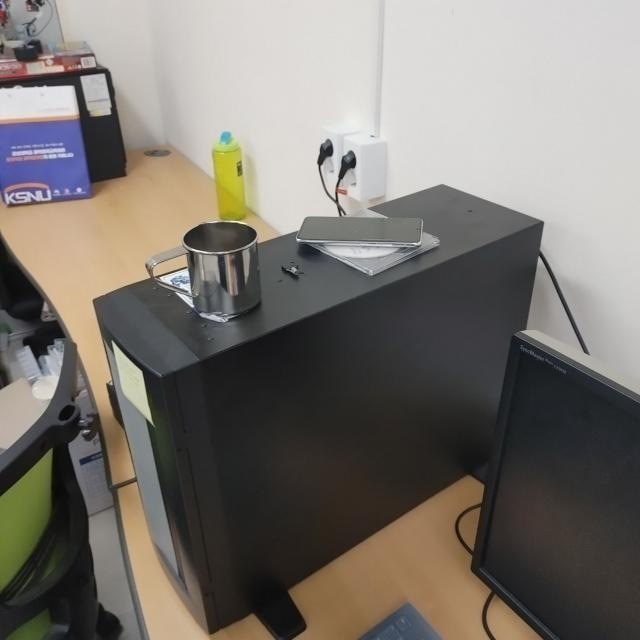cup: (146, 221, 262, 318)
phone: (296, 214, 424, 249)
